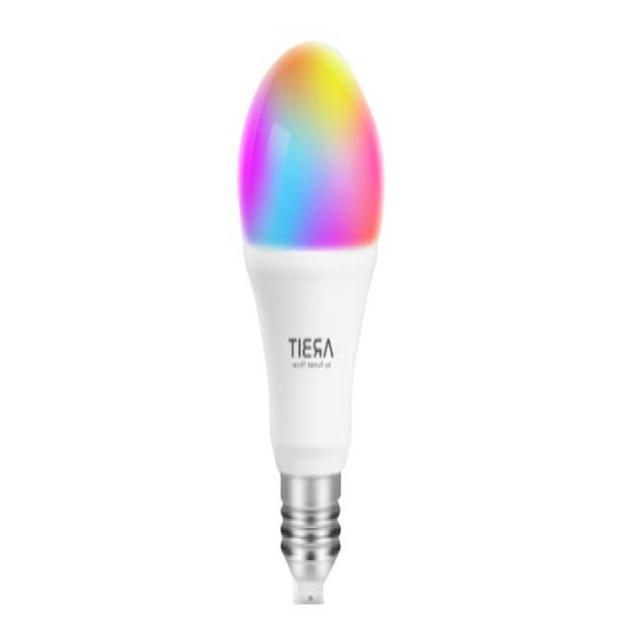light_bulb: (232, 24, 398, 620)
